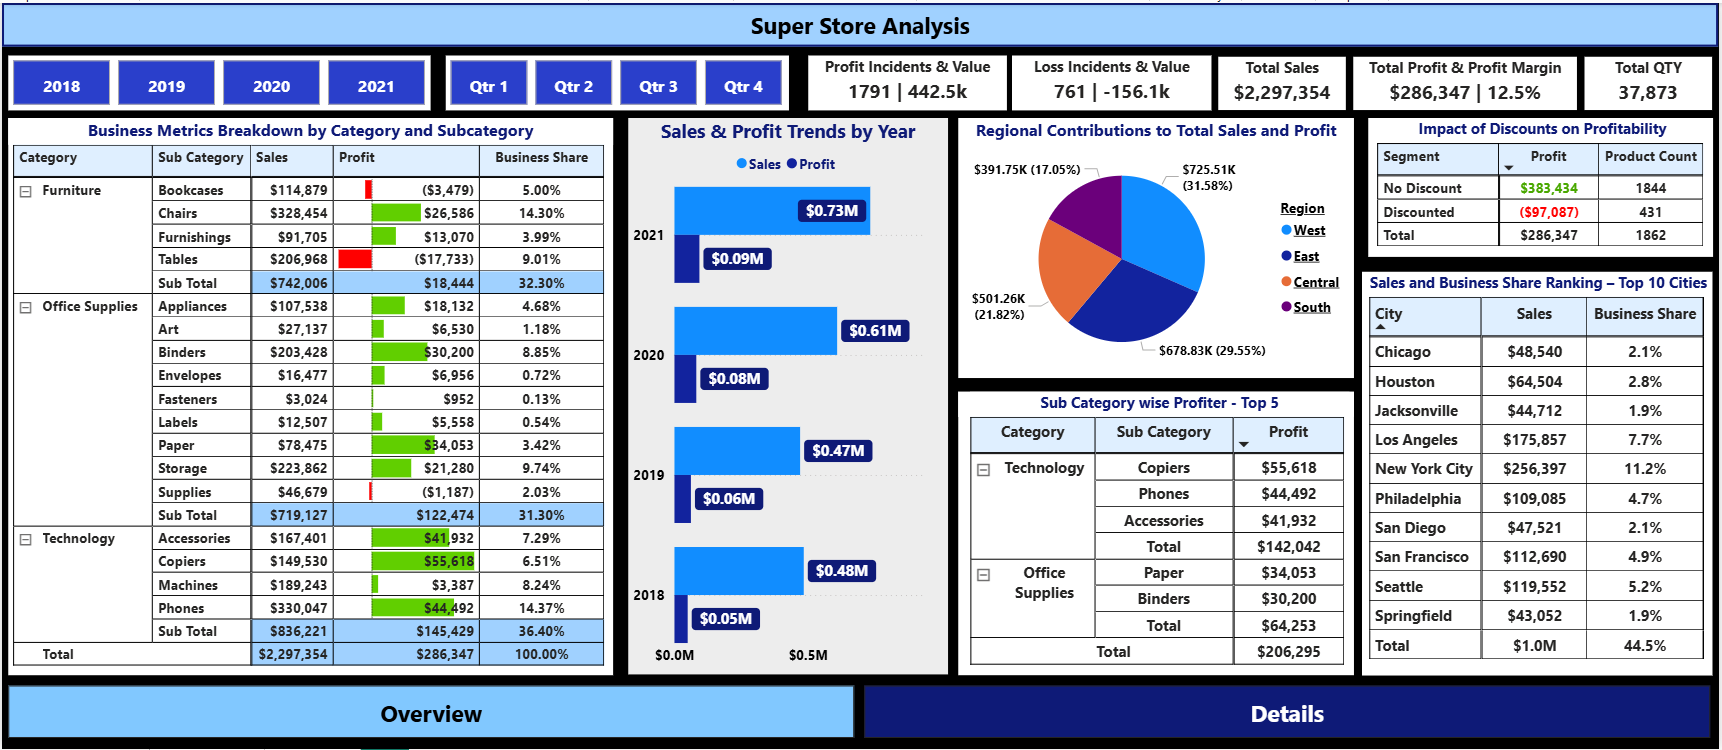

Layout of this report page (visuals, bound fields, positions):
{"tool":"powerbi","page":{"name":"Overview","canvas":[1700,739],"ordinal":0},"visuals":[{"type":"actionButton","box":[0,0,1700.3,43.2],"z":0},{"type":"card","title":"Total QTY","fields":{"Values":["Sum(SuperStore.Quantity)"]},"box":[1567.9,52.9,126.7,53.1],"z":1000},{"type":"card","title":"Total Profit & Profit Margin","fields":{"Values":["Measure Table.Profit_Profit_Margin"]},"box":[1338.7,52.9,222,53.1],"z":2000},{"type":"card","title":"Total Sales","fields":{"Values":["Sum(SuperStore.Sales)"]},"box":[1204.8,52.9,126.7,53.1],"z":3000},{"type":"pivotTable","fields":{"Rows":["SuperStore.City"],"Values":["Measure Table.Sales","Measure Table.BusinessShare"]},"box":[1346.7,265.6,347.5,400],"z":4000},{"type":"pivotTable","fields":{"Rows":["SuperStore.Category","SuperStore.Sub_Category"],"Values":["Sum(SuperStore.Sales)","Sum(SuperStore.Profit)","Divide(Sum(SuperStore.Sales), ScopedEval(Sum(SuperStore.Sales), [Role.Columns]))"]},"box":[6,114,599,552],"z":5000},{"type":"card","title":"Profit Incidents & Value","fields":{"Values":["Measure Table.profit_product_count"]},"box":[798.2,51.7,196.6,54.3],"z":6000},{"type":"card","title":"Loss Incidents & Value","fields":{"Values":["Measure Table.loss_product_count"]},"box":[1000.9,51.7,197.9,54.3],"z":7000},{"type":"pivotTable","title":"Impact of Discounts on Profitability","fields":{"Rows":["SuperStore.discount_or_not"],"Values":["Sum(SuperStore.Profit)","Count(SuperStore.ProductID)"]},"box":[1352.8,114.3,341.3,137.4],"z":8000},{"type":"pieChart","fields":{"Category":["SuperStore.Region"],"Y":["Sum(SuperStore.Sales)"]},"box":[946.7,114.3,392.3,257.9],"z":9000},{"type":"pivotTable","fields":{"Rows":["SuperStore.Category","SuperStore.Sub_Category"],"Values":["Sum(SuperStore.Profit)"]},"box":[946.7,384.5,392.3,281.1],"z":10000},{"type":"clusteredBarChart","fields":{"Category":["SuperStore.OrderDate.Variation.Date Hierarchy.Year"],"Y":["Sum(SuperStore.Sales)","Sum(SuperStore.Profit)"]},"box":[620.8,114.3,316.6,551.3],"z":11000},{"type":"advancedSlicerVisual","fields":{"Values":["SuperStore.OrderDate.Variation.Date Hierarchy.Year"]},"box":[6.2,52.5,418.5,54.1],"z":12000},{"type":"advancedSlicerVisual","fields":{"Values":["SuperStore.OrderDate.Variation.Date Hierarchy.Quarter"]},"box":[440.1,52.5,339.8,54.1],"z":13000},{"type":"pageNavigator","box":[6.2,676.1,1687.8,52],"z":14000}]}

Visuals, with their boxes in screenshot pixels (x1, y1, x2, y2), scaled from the page's 1700x739 canvas onto the 1722x750 screenshot:
actionButton: [0, 0, 1721, 44]
"Total QTY" card: [1588, 54, 1717, 108]
"Total Profit & Profit Margin" card: [1356, 54, 1581, 108]
"Total Sales" card: [1220, 54, 1349, 108]
pivotTable - SuperStore.City x Measure Table.Sales: [1364, 270, 1716, 676]
pivotTable - SuperStore.Category x SuperStore.Sub_Category: [6, 116, 613, 676]
"Profit Incidents & Value" card: [809, 52, 1008, 108]
"Loss Incidents & Value" card: [1014, 52, 1214, 108]
"Impact of Discounts on Profitability" pivotTable: [1370, 116, 1716, 255]
pieChart - SuperStore.Region x Sum(SuperStore.Sales): [959, 116, 1356, 378]
pivotTable - SuperStore.Category x SuperStore.Sub_Category: [959, 390, 1356, 676]
clusteredBarChart - SuperStore.OrderDate.Variation.Date Hierarchy.Year x Sum(SuperStore.Sales): [629, 116, 950, 676]
advancedSlicerVisual - SuperStore.OrderDate.Variation.Date Hierarchy.Year: [6, 53, 430, 108]
advancedSlicerVisual - SuperStore.OrderDate.Variation.Date Hierarchy.Quarter: [446, 53, 790, 108]
pageNavigator: [6, 686, 1716, 739]
